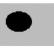correct: (4, 6, 36, 37)
